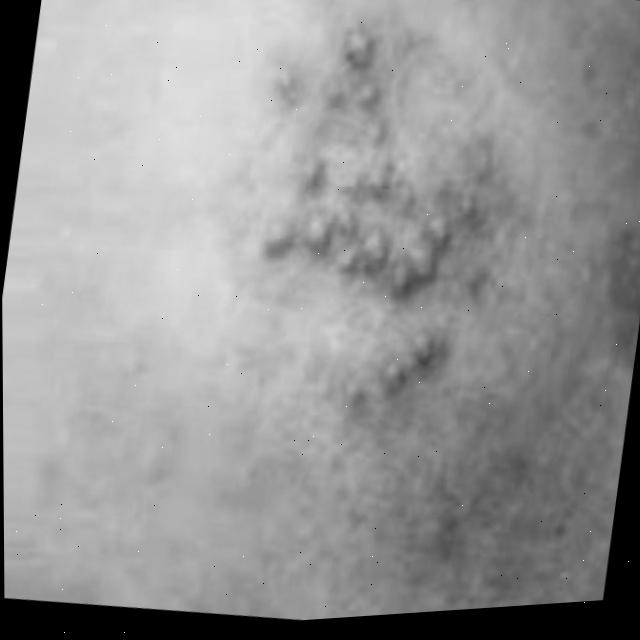Shingles: (226, 4, 521, 429)
